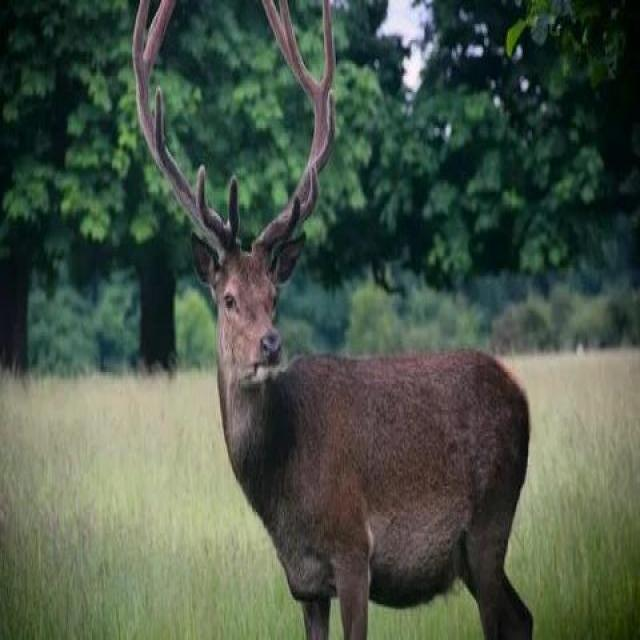deer: (191, 181, 528, 608)
